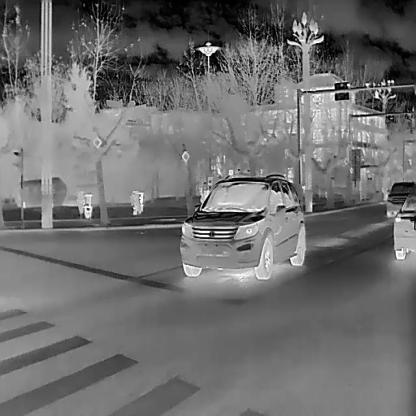car: (178, 172, 306, 278), (392, 191, 415, 259), (384, 180, 416, 218)
